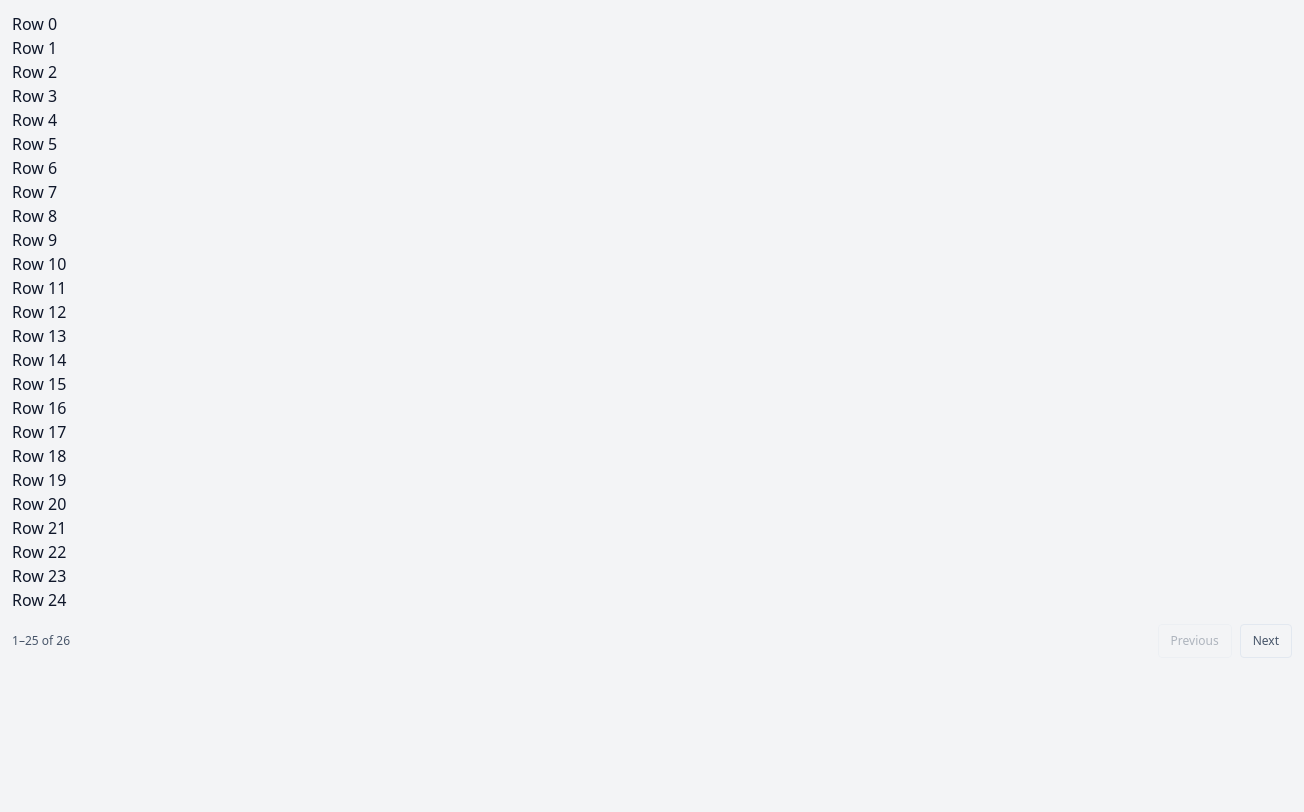
Test: keeps long lists bounded without dropping later rows
Expected: the text "Row 25" is not shown
Click the button with aria-label "Next test rows".
click(1266, 641)  # box [1240, 624, 1292, 658]
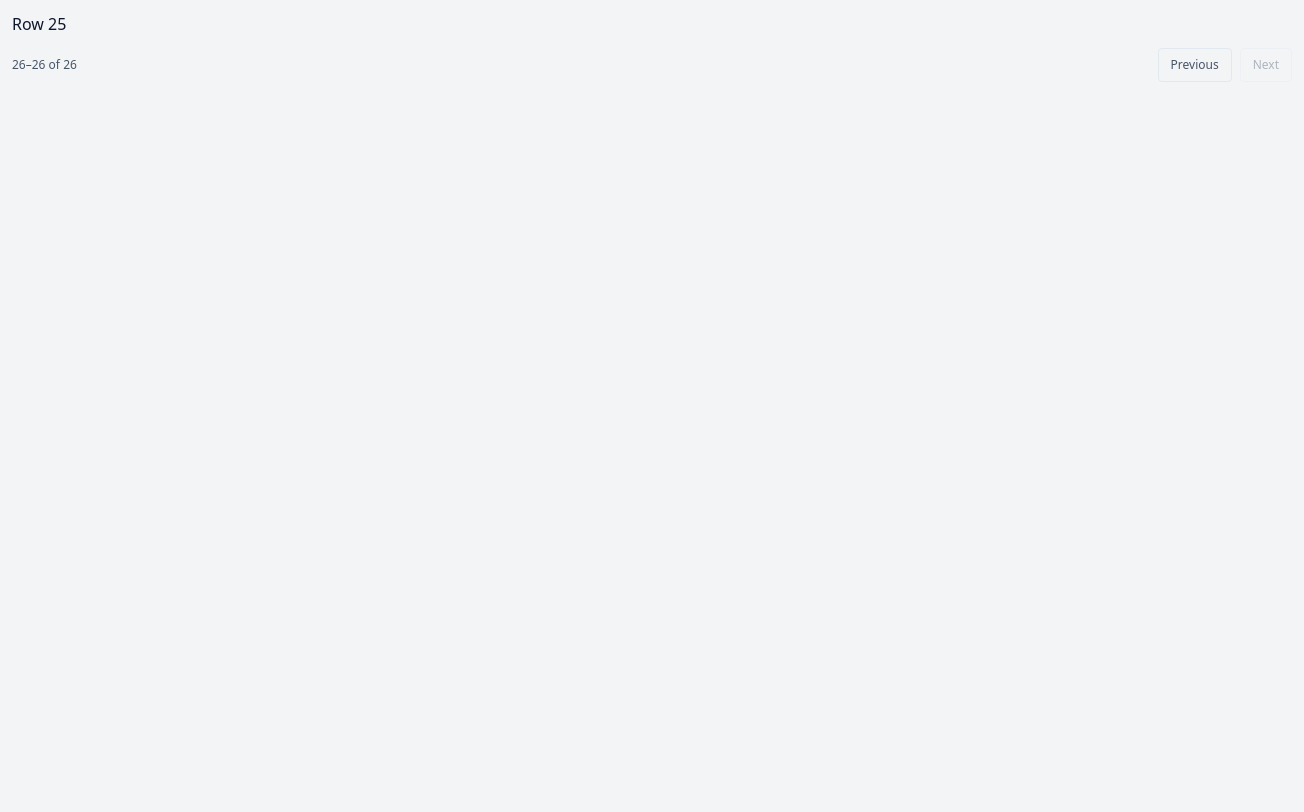
Expected: the text "Row 25" is shown, [12, 13, 66, 35]
Expected: the text "Row 0" is gone
